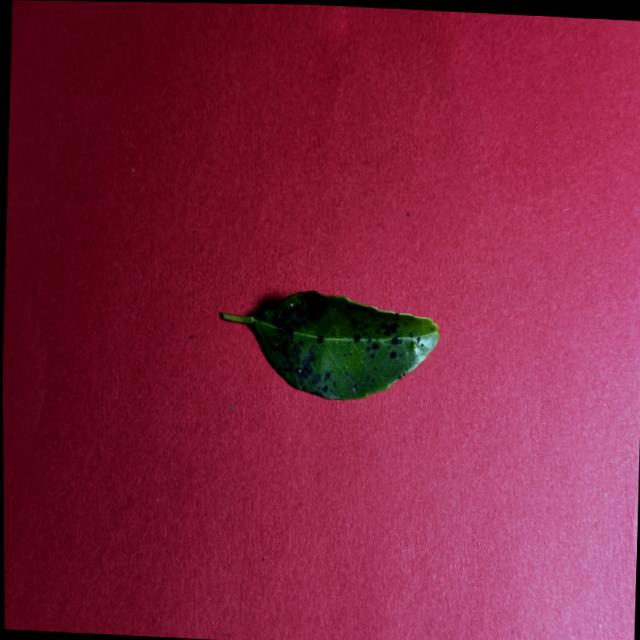sooty_mold: (221, 291, 437, 400)
